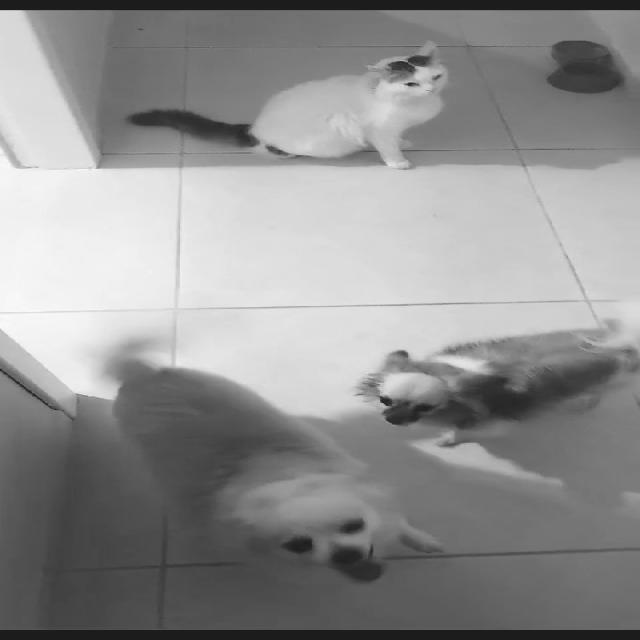Pedrita: (362, 290, 638, 430)
Theo: (85, 320, 419, 600)
